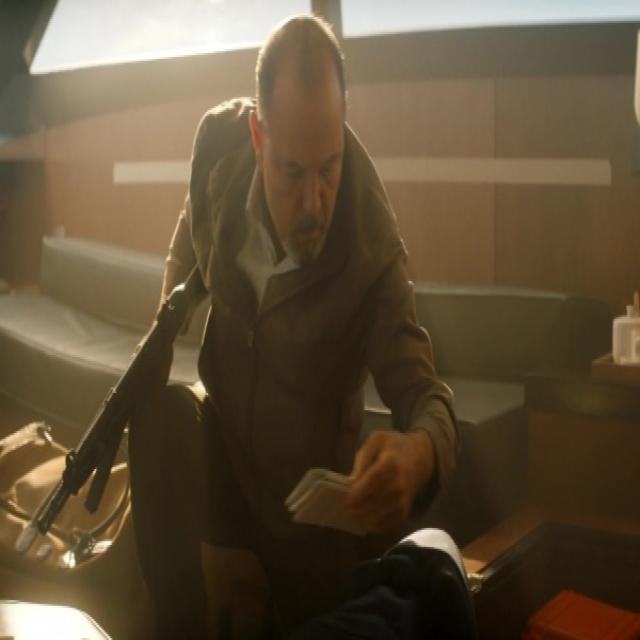rifle: (36, 253, 211, 546)
